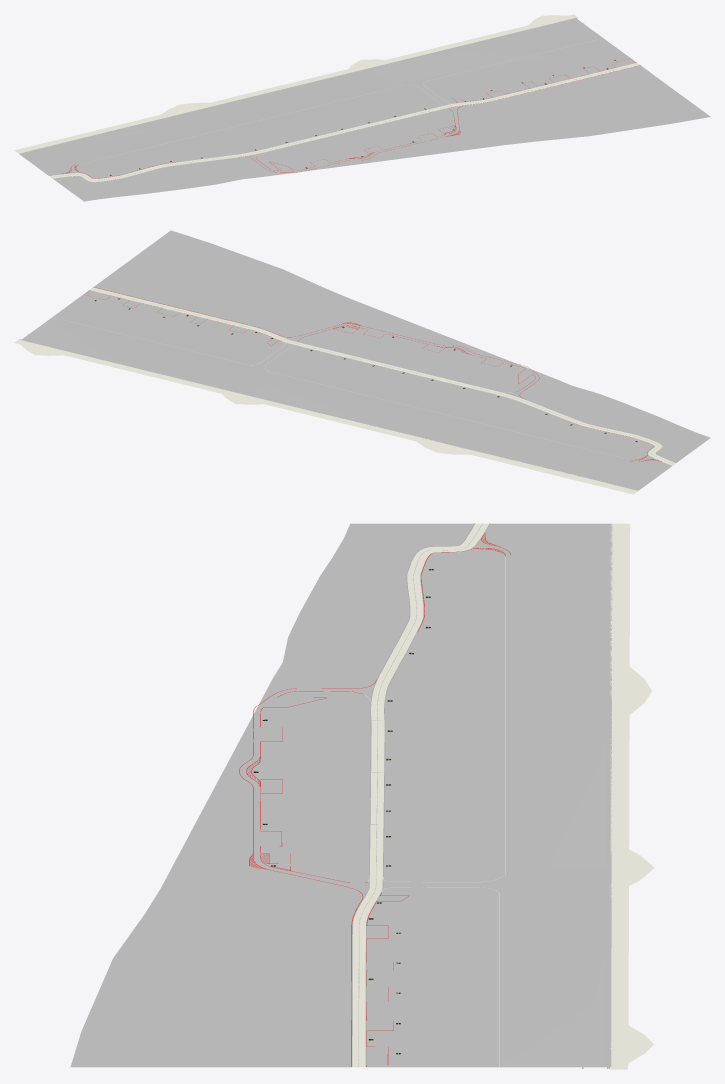
3 views of the same model, one above another, from view 1: azimuth 30°, elevation 25°; view 2: azimuth 150°, elevation 25°; view 3: azimuth 270°, elevation 25° (orthographic). The views are drawn at different scales.
Visible parts, largest first — view 1: SouthApronZ2d, TarmacZ2d, RoadZ2d, LineParkZ2d, RedMark&WhiteZ2d, WhiteMarkRoadZ2d; view 2: SouthApronZ2d, TarmacZ2d, RoadZ2d, LineParkZ2d, RedMark&WhiteZ2d, WhiteMarkRoadZ2d; view 3: SouthApronZ2d, TarmacZ2d, RoadZ2d, LineParkZ2d, RedMark&WhiteZ2d, WhiteMarkRoadZ2d.
Boxes of the visible parts, x1,y1,x2,y2 form: SouthApronZ2d: (19,18,710,201); TarmacZ2d: (14,14,577,153); RoadZ2d: (49,63,640,182); LineParkZ2d: (73,27,613,174); RedMark&WhiteZ2d: (61,38,640,178); WhiteMarkRoadZ2d: (49,62,638,181); SouthApronZ2d: (21,230,710,490); TarmacZ2d: (14,339,637,494); RoadZ2d: (89,287,675,465); LineParkZ2d: (44,299,635,471); RedMark&WhiteZ2d: (52,287,661,461); WhiteMarkRoadZ2d: (90,287,675,465); SouthApronZ2d: (70,523,612,1067); TarmacZ2d: (610,523,654,1069); RoadZ2d: (352,523,488,1067); LineParkZ2d: (259,569,582,1053); RedMark&WhiteZ2d: (239,533,510,1066); WhiteMarkRoadZ2d: (351,523,490,1066).
Size of the model in its own units: 77141 by 46 by 34888.
